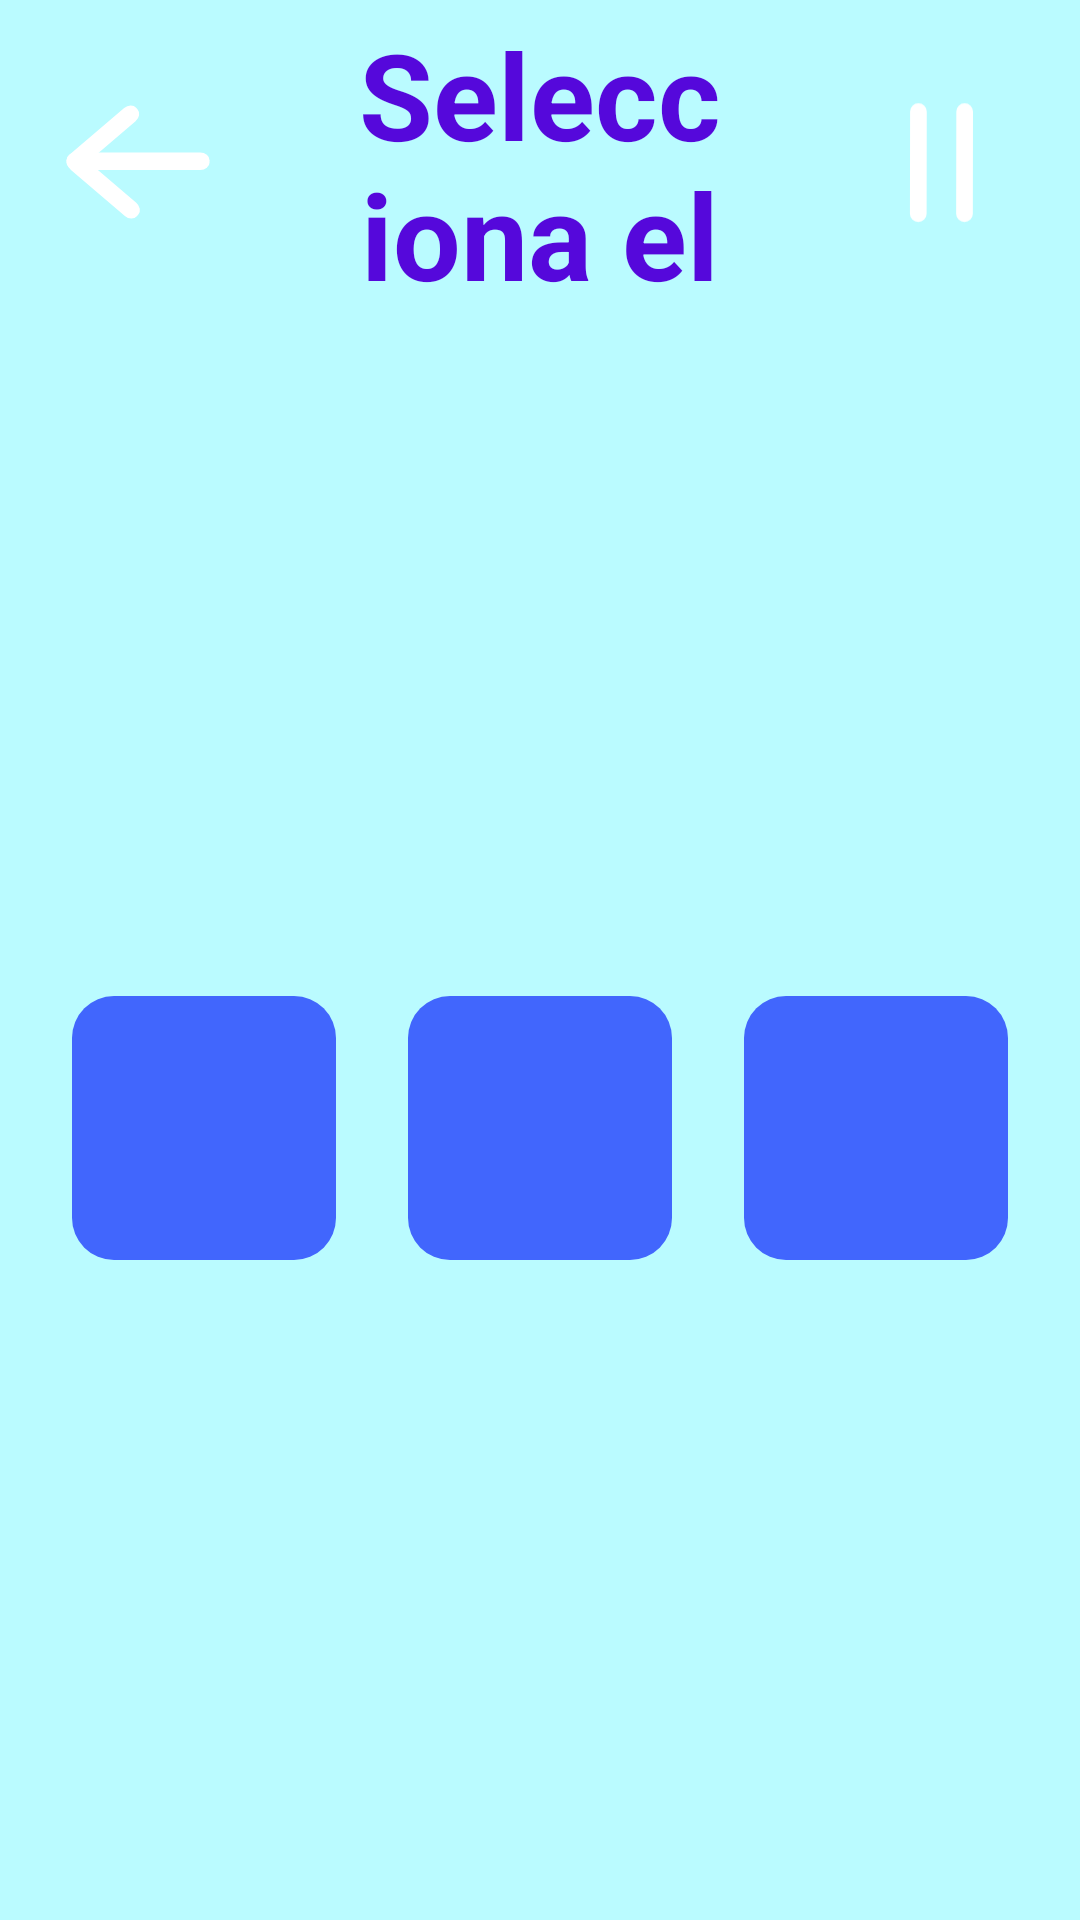

Screen size 1080w x 1920h. Icon name, then its center in pixels as (x,y):
Botón de pausa: (941,162)
Botón para regresar: (138,162)
